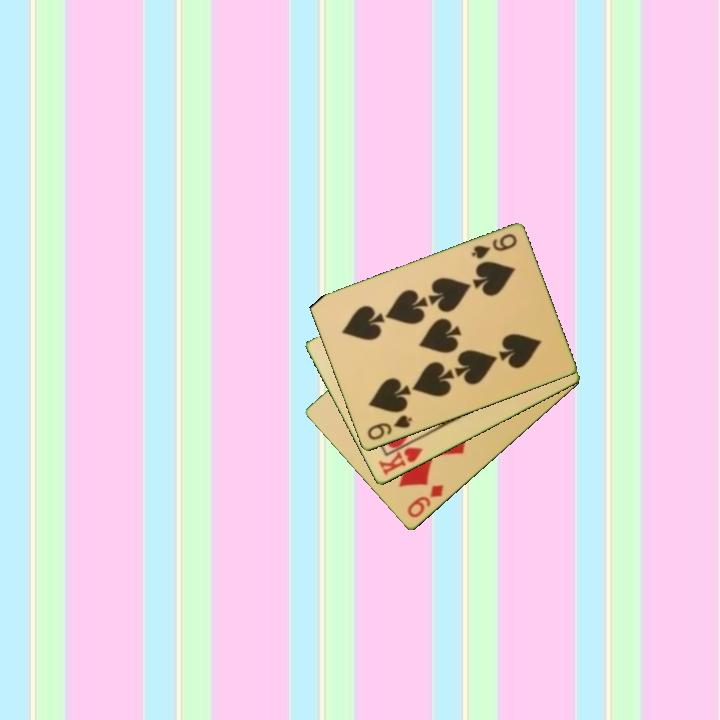9d: (404, 481, 447, 521)
9s: (468, 230, 520, 262), (364, 412, 415, 443)
Kh: (375, 436, 426, 479)
